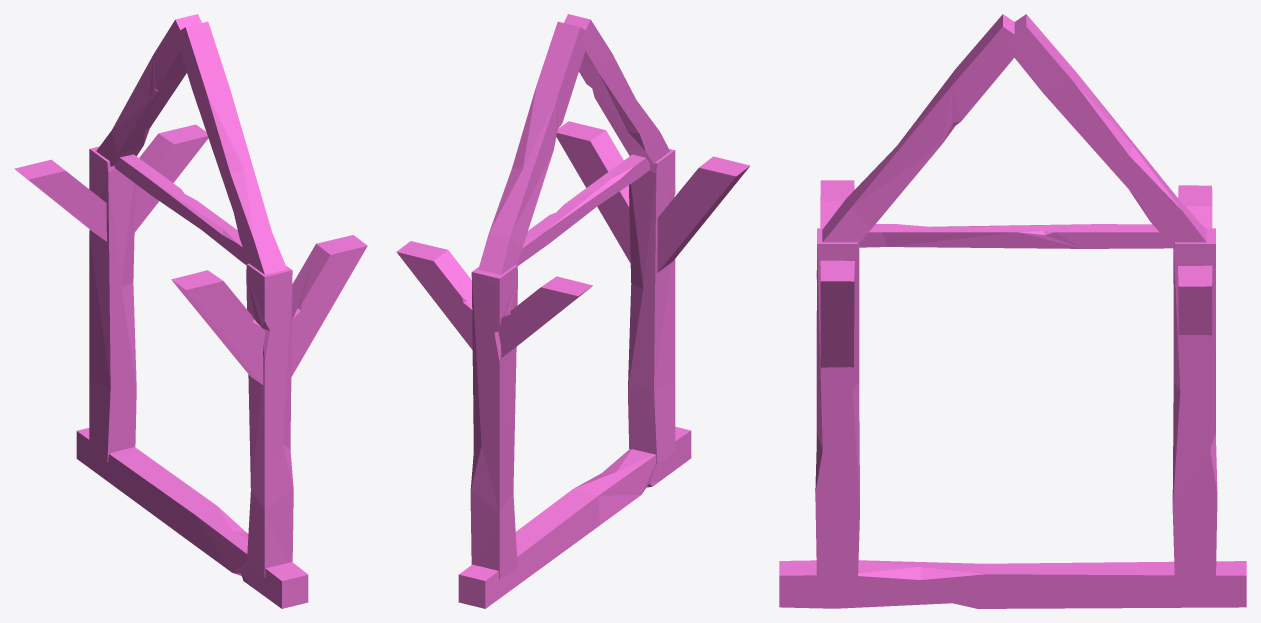
File: SM_Skyway_Covered_Y_Support_Fantasy.fbx
3 views of the same model, side by side, from view 1: azimuth 30°, elevation 25°; view 2: azimuth 150°, elevation 25°; view 3: azimuth 270°, elevation 25° (orthographic). The views are drawn at different scales.
Parts seen in each view (by area): view 1: SM_Skyway_Covered_Y_Support_Fantasy; view 2: SM_Skyway_Covered_Y_Support_Fantasy; view 3: SM_Skyway_Covered_Y_Support_Fantasy.
Boxes of the visible parts, x1,y1,x2,y2 form: SM_Skyway_Covered_Y_Support_Fantasy: (14, 14, 367, 608); SM_Skyway_Covered_Y_Support_Fantasy: (396, 14, 749, 608); SM_Skyway_Covered_Y_Support_Fantasy: (779, 14, 1246, 608).
Size of the model in its own units: 2.01 by 5.37 by 3.92.
